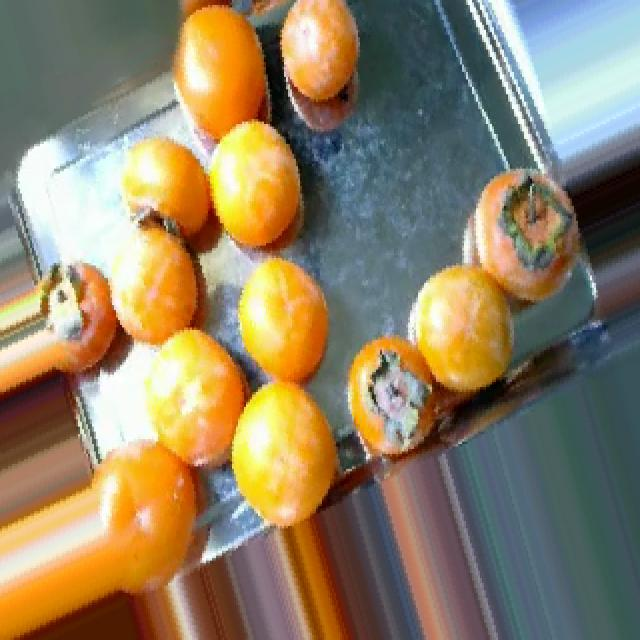Fruit: (384, 238, 542, 434), (222, 238, 352, 417), (224, 365, 350, 548), (152, 0, 270, 166), (274, 0, 390, 146)
